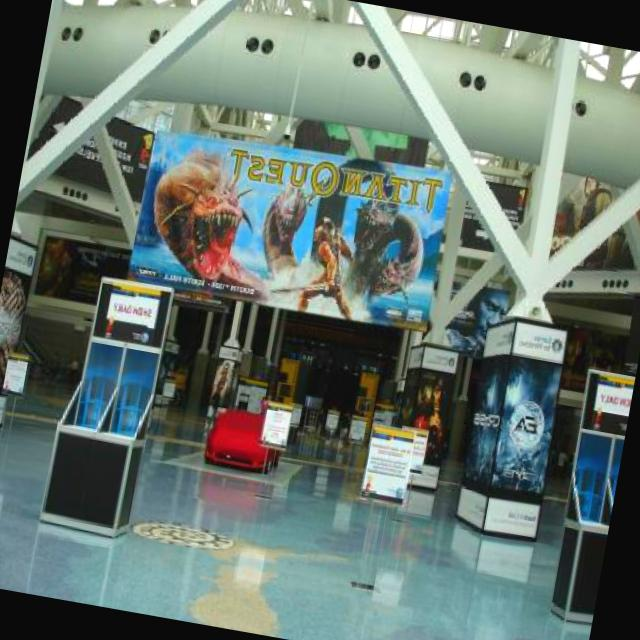Person: (296, 215, 368, 322), (569, 170, 623, 269), (412, 374, 454, 439)
